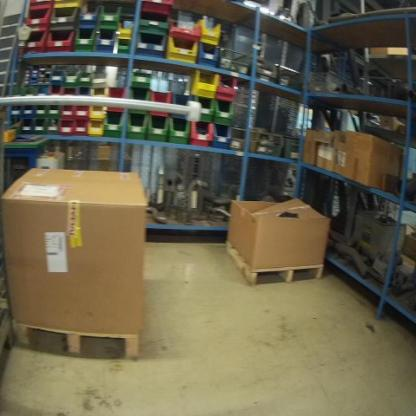pallet: (12, 321, 141, 362), (225, 240, 324, 288)
stillage: (0, 110, 9, 377)
